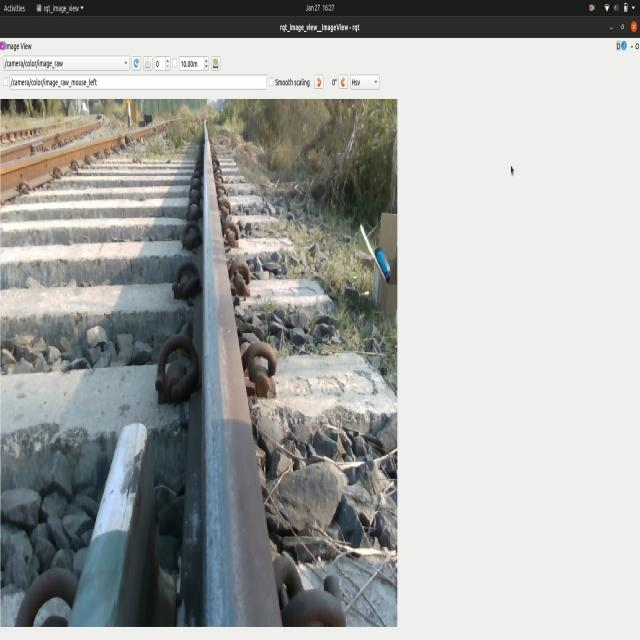correct: (240, 332, 287, 414)
